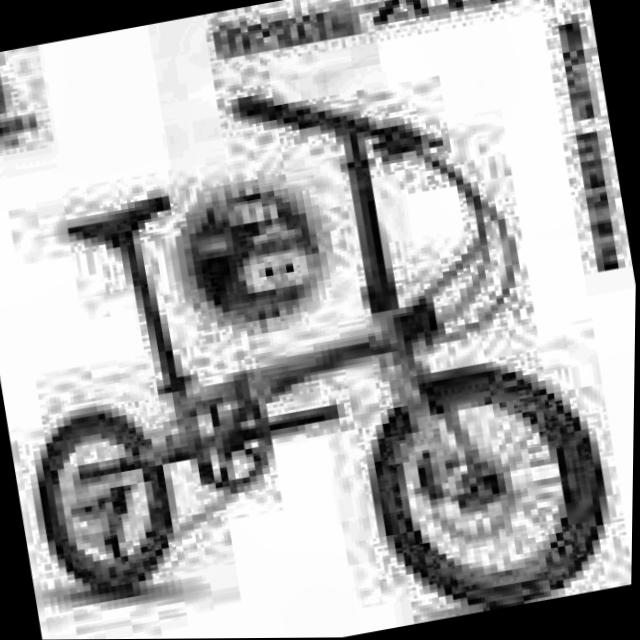bike: (0, 37, 619, 640)
